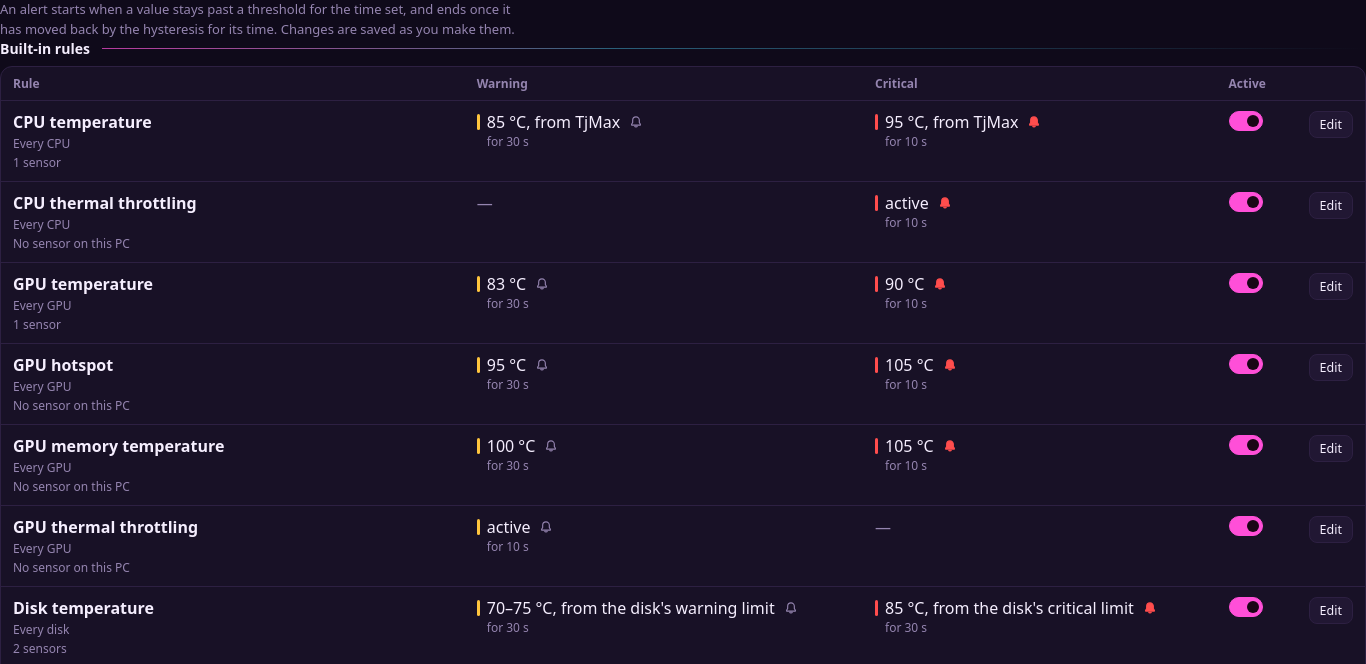
Test case: validation_error_appears_next_to_the_field
Expected: the row "GPU temperature" is shown, [1,262,1365,344]
Click the button "Edit" in the row of "GPU temperature" at x=1331, y=286, box [1309,273,1353,300]
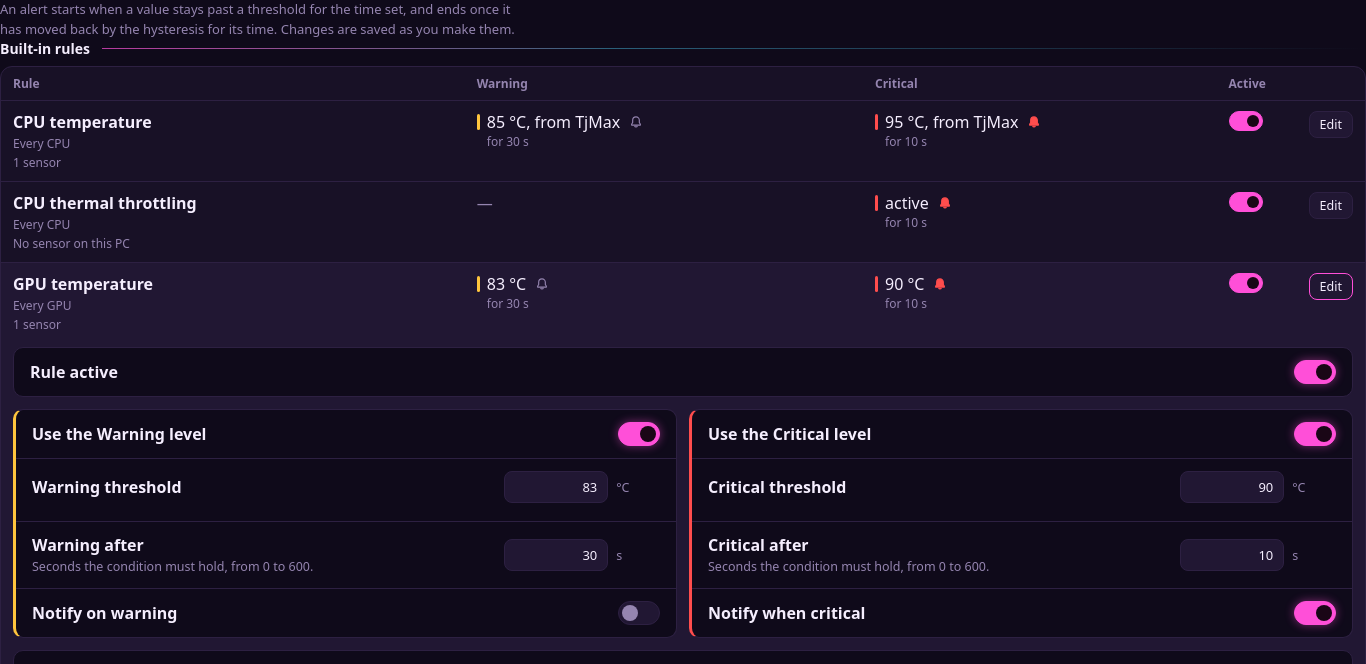
Replace the text in the field labelled "Critical threshold" with "80" at x=1232, y=487, box [1180,471,1284,503]
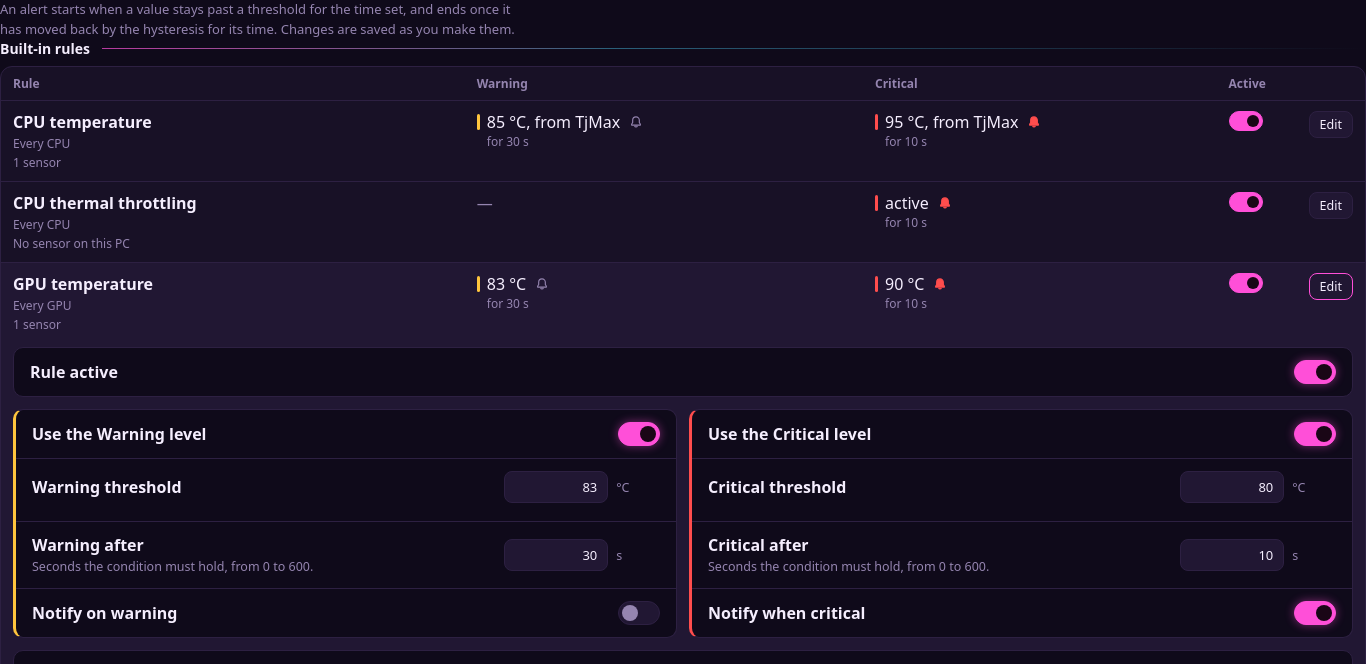
Press Enter in the field labelled "Critical threshold", box [1180,471,1284,503]
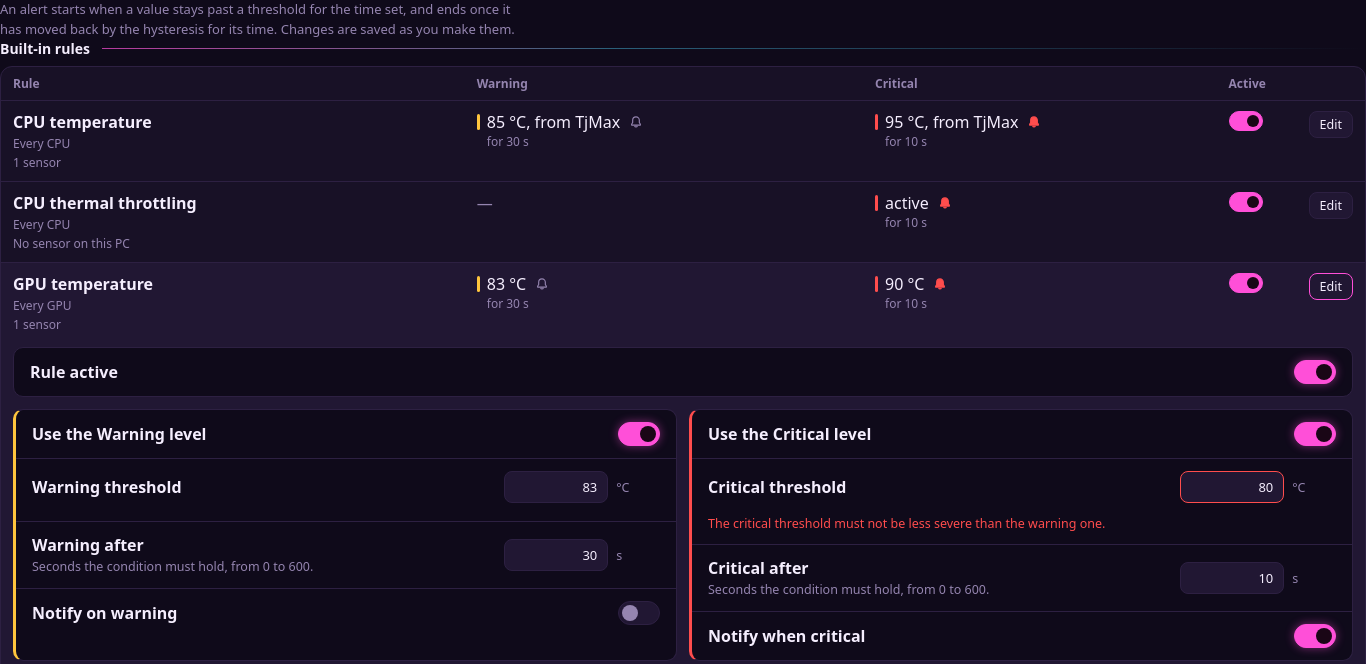
Replace the text in the field labelled "Critical threshold" with "95" at x=1232, y=487, box [1180,471,1284,503]
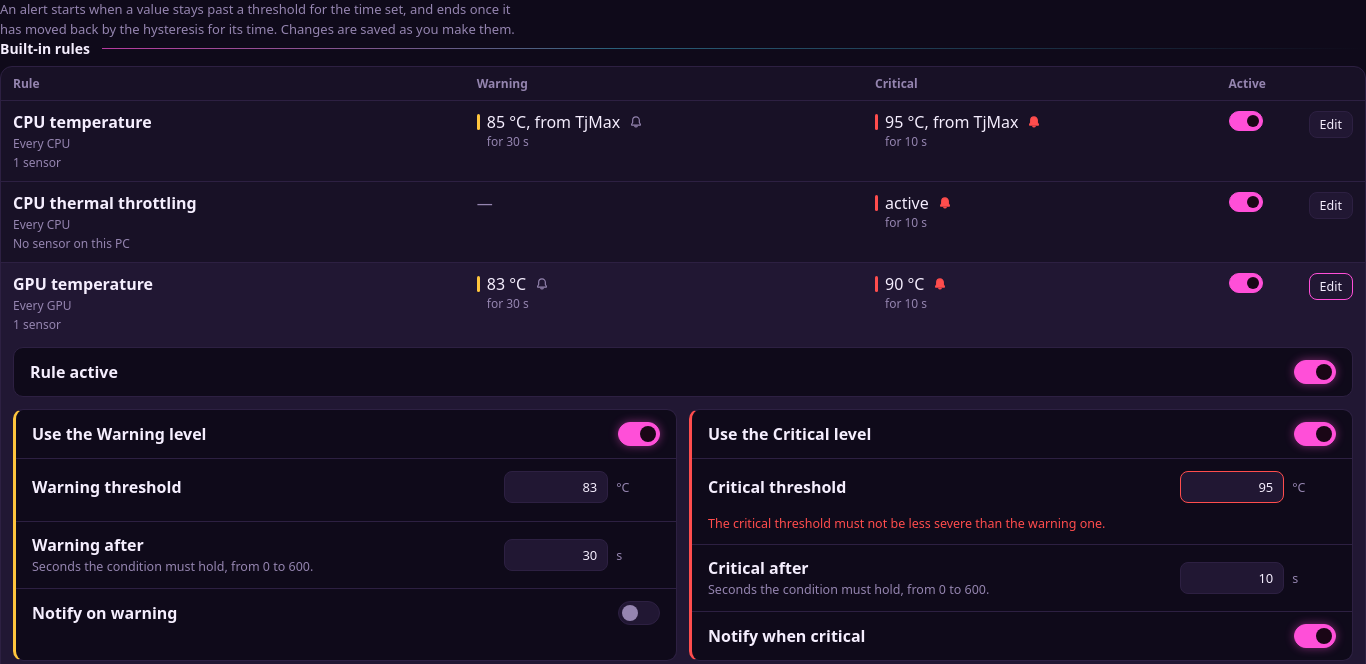
Press Enter in the field labelled "Critical threshold", box [1180,471,1284,503]
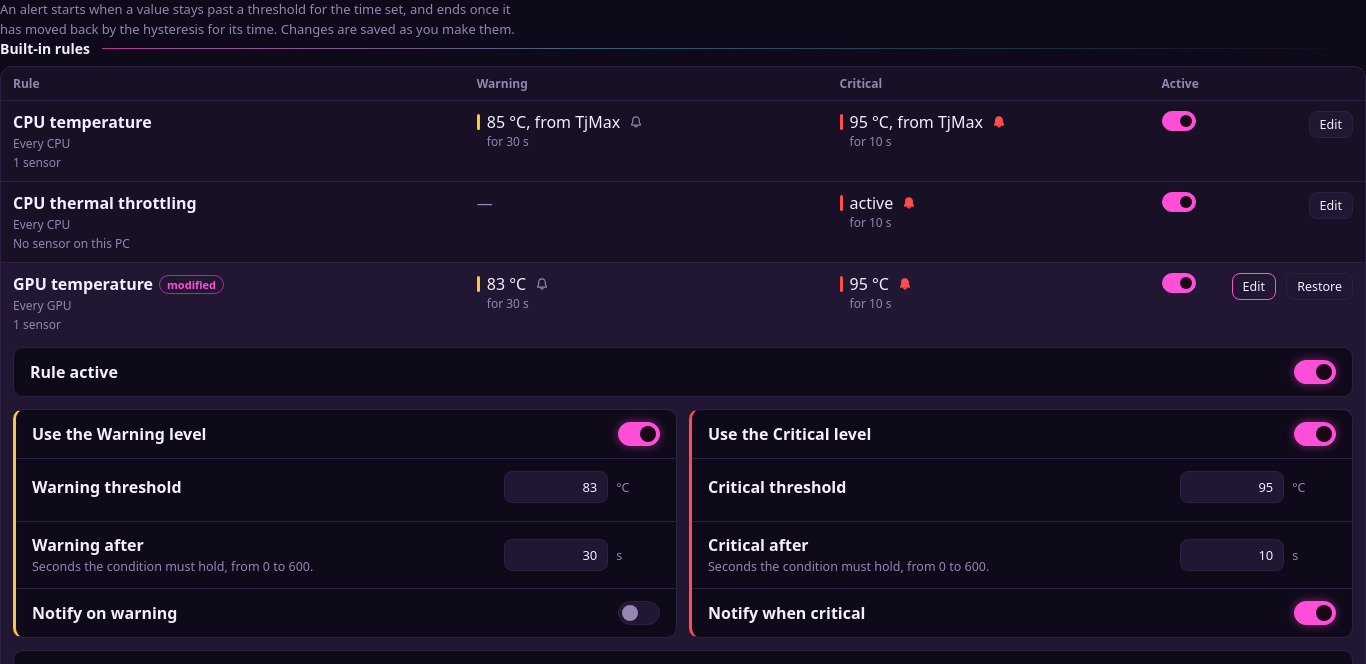
Result: the text "The critical threshold must not be less severe than the warning one." is gone
